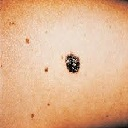Melanoma: (63, 51, 82, 76)
